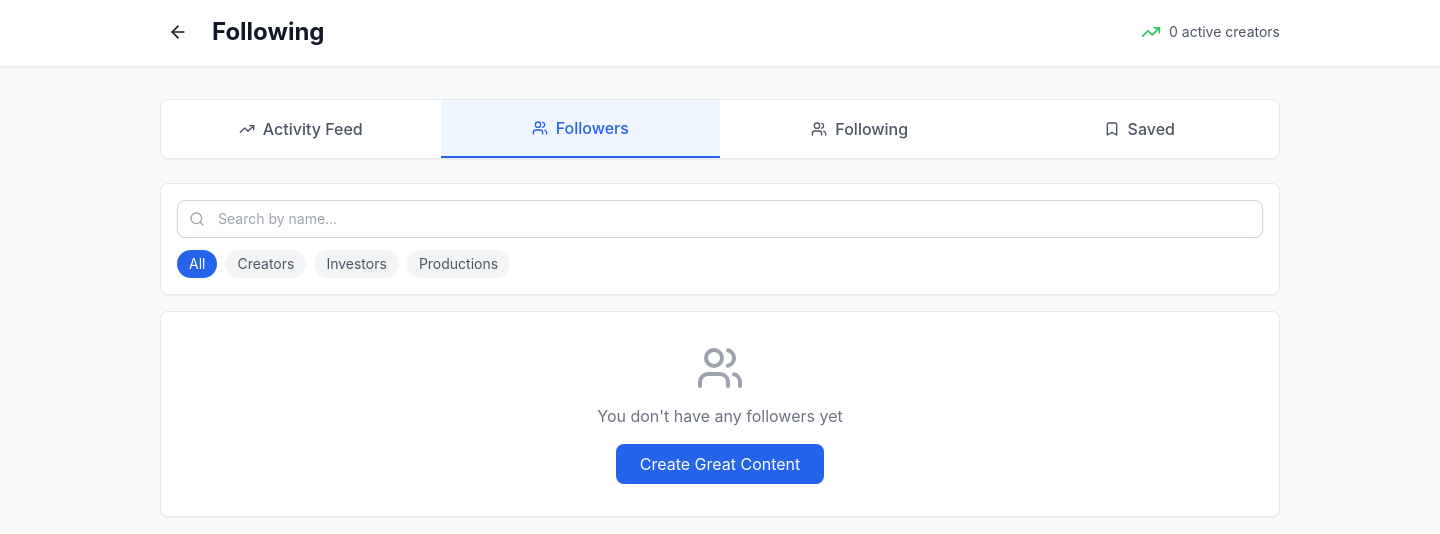
Test case: Following › shows empty following state when Following tab is clicked
Expected: the heading "Following" is shown, [212,16,324,48]
# Click the Following tab (last occurrence is the tab button)
Click the button "Following": (860, 129) [720,100,1000,158]
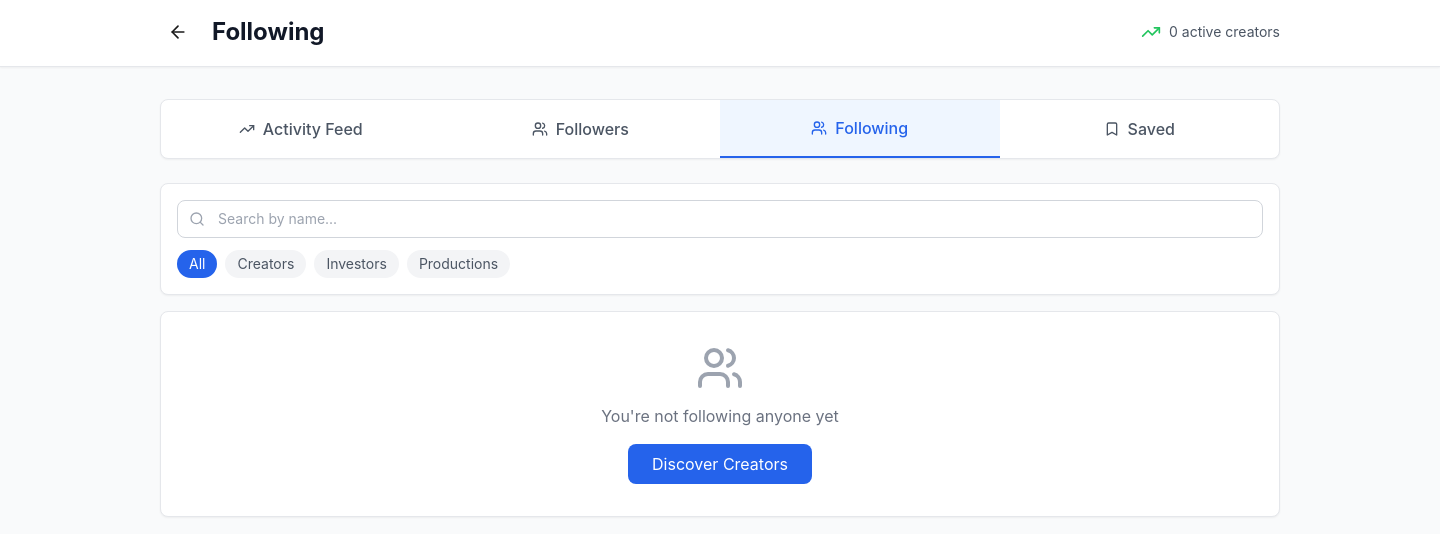
Result: the text "You're not following anyone yet" is shown at [601,406,839,426]
